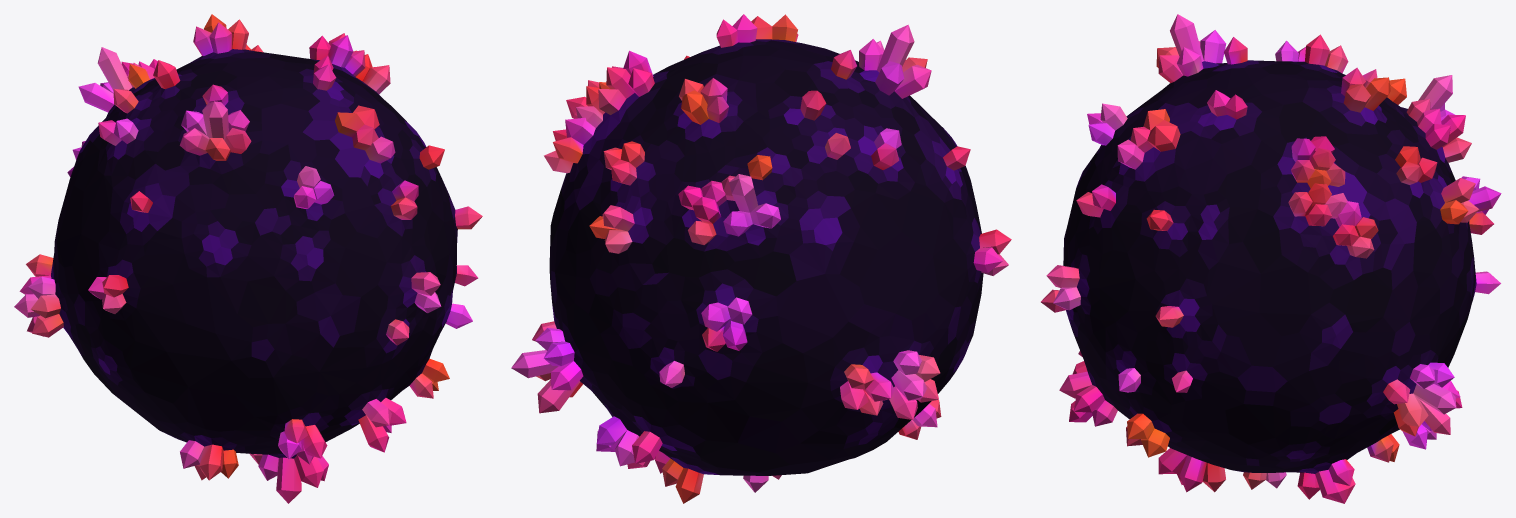
File: Crystal_planet_14.fbx
3 views of the same model, side by side, from view 1: azimuth 30°, elevation 25°; view 2: azimuth 150°, elevation 25°; view 3: azimuth 270°, elevation 25° (orthographic). The views are drawn at different scales.
Visible parts, largest first — view 1: file6; view 2: file6; view 3: file6.
Part boxes in pixels (left/top/right/bottom): file6: left=14, top=14, right=482, bottom=503; file6: left=511, top=14, right=1011, bottom=503; file6: left=1041, top=14, right=1501, bottom=503.
Bounding box in the file's own units: 2.13 × 2.32 × 2.24.
